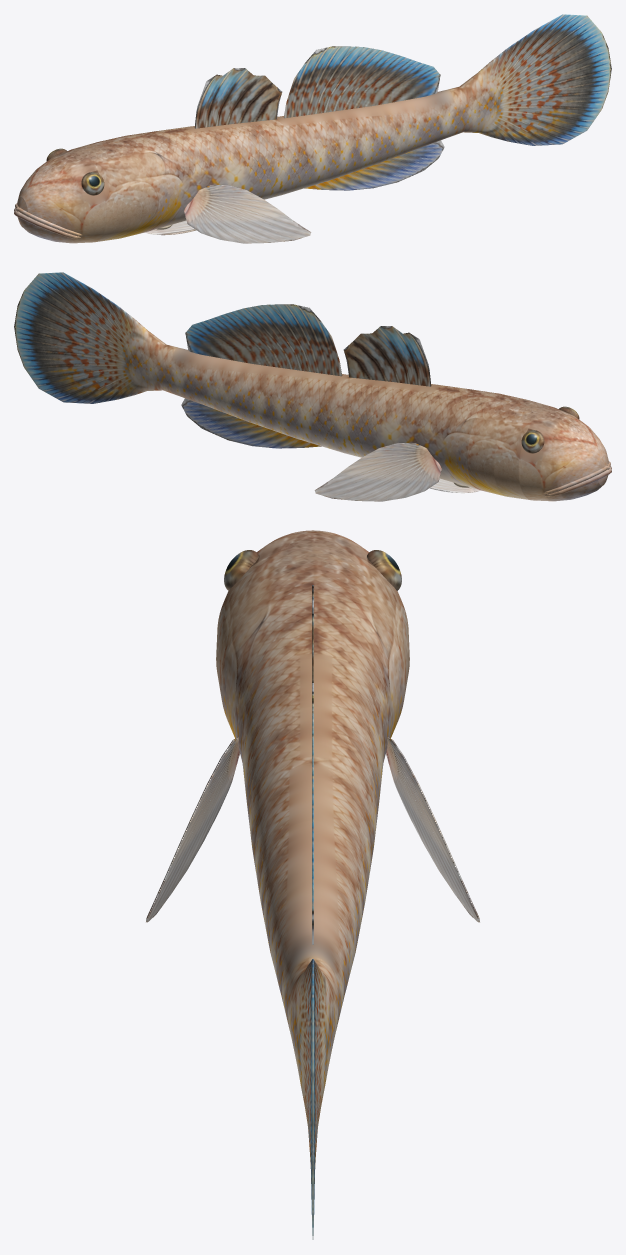
The model's file is male-mobile.glb.
3 renders of one model, top to bottom at view 1: azimuth 30°, elevation 25°; view 2: azimuth 150°, elevation 25°; view 3: azimuth 270°, elevation 25°, orthographic. The views are drawn at different scales.
Visible parts, largest first — view 1: Body_continuous_caudal, Dorsal_2, Pectoral_left, Dorsal_1, Anal, Eye_left, Fused_pelvic_disc, Projecting_lower_lip; view 2: Body_continuous_caudal, Dorsal_2, Pectoral_right, Dorsal_1, Anal, Eye_right, Fused_pelvic_disc, Projecting_lower_lip; view 3: Body_continuous_caudal, Pectoral_left, Pectoral_right.
Part boxes in pixels (bbox=[...]): Body_continuous_caudal: bbox=[17, 14, 611, 243]; Dorsal_2: bbox=[283, 46, 440, 118]; Pectoral_left: bbox=[184, 184, 311, 243]; Dorsal_1: bbox=[194, 68, 282, 128]; Anal: bbox=[304, 140, 444, 190]; Eye_left: bbox=[81, 172, 104, 195]; Fused_pelvic_disc: bbox=[145, 220, 196, 235]; Projecting_lower_lip: bbox=[14, 208, 80, 238]; Body_continuous_caudal: bbox=[14, 272, 608, 501]; Dorsal_2: bbox=[185, 304, 342, 376]; Pectoral_right: bbox=[314, 442, 441, 501]; Dorsal_1: bbox=[343, 326, 431, 386]; Anal: bbox=[181, 398, 321, 448]; Eye_right: bbox=[521, 430, 544, 453]; Fused_pelvic_disc: bbox=[429, 478, 480, 493]; Projecting_lower_lip: bbox=[545, 466, 611, 496]; Body_continuous_caudal: bbox=[216, 530, 409, 1239]; Pectoral_left: bbox=[146, 737, 239, 922]; Pectoral_right: bbox=[386, 737, 479, 922].
Bounding box in the file's own units: 0.04 × 0.01 × 0.00971.
Materials: 1 (1 with a texture image).
